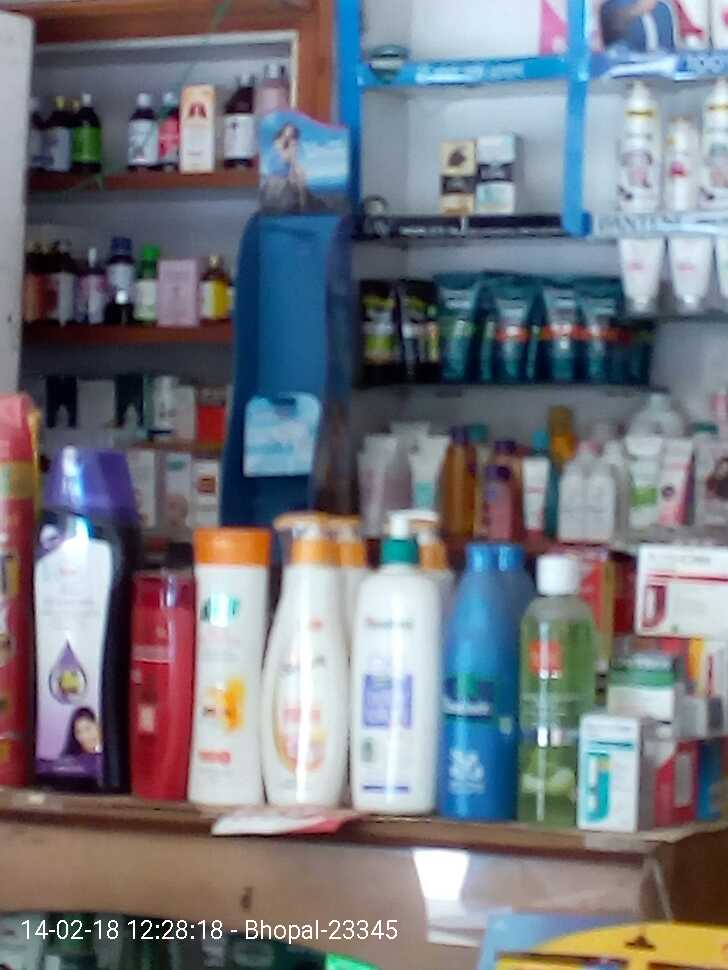beauty: (603, 78, 660, 214), (654, 107, 699, 206), (474, 126, 517, 214), (696, 81, 728, 195), (437, 144, 478, 216)
